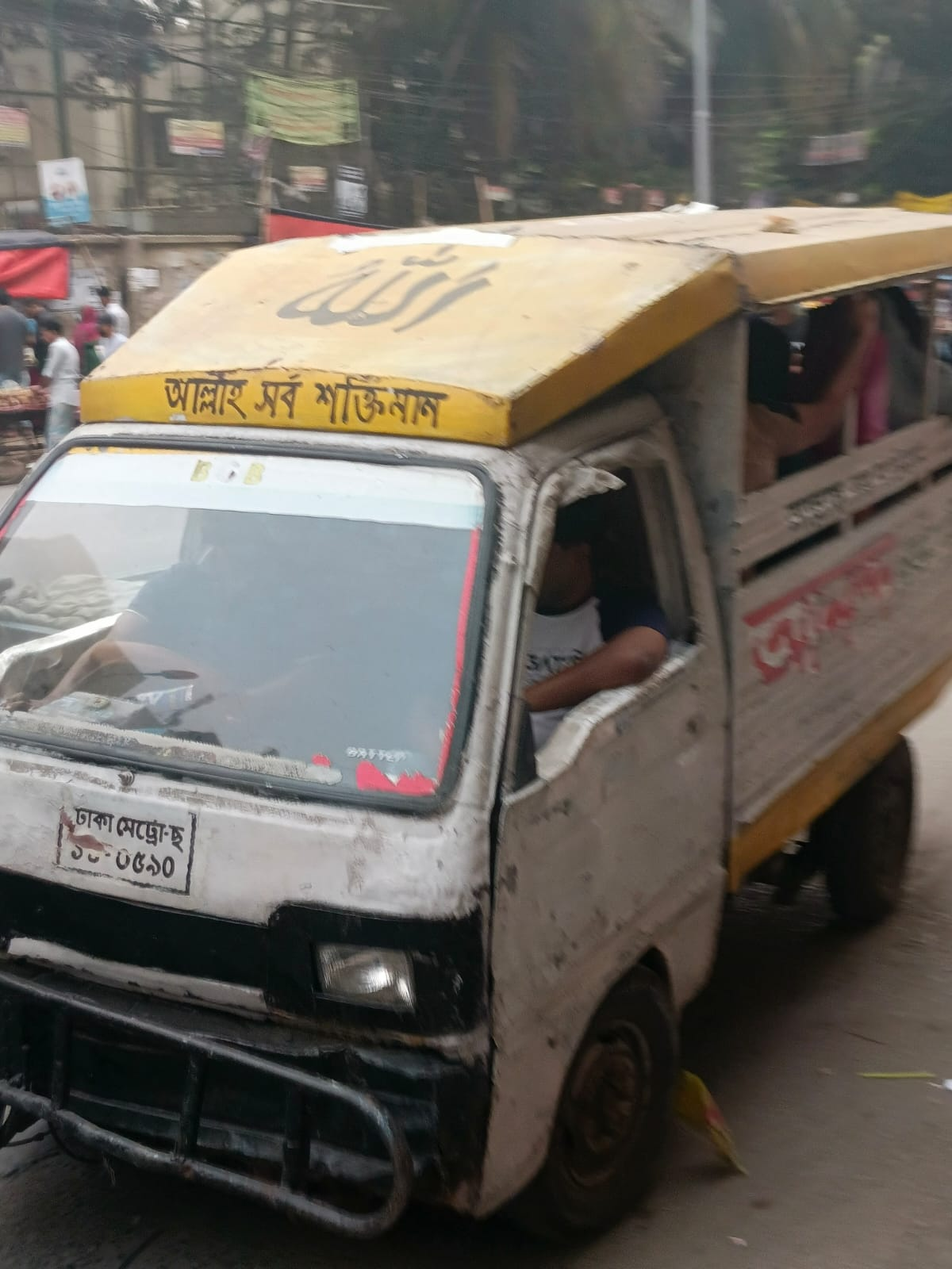Leguna: (0, 176, 952, 1226)
